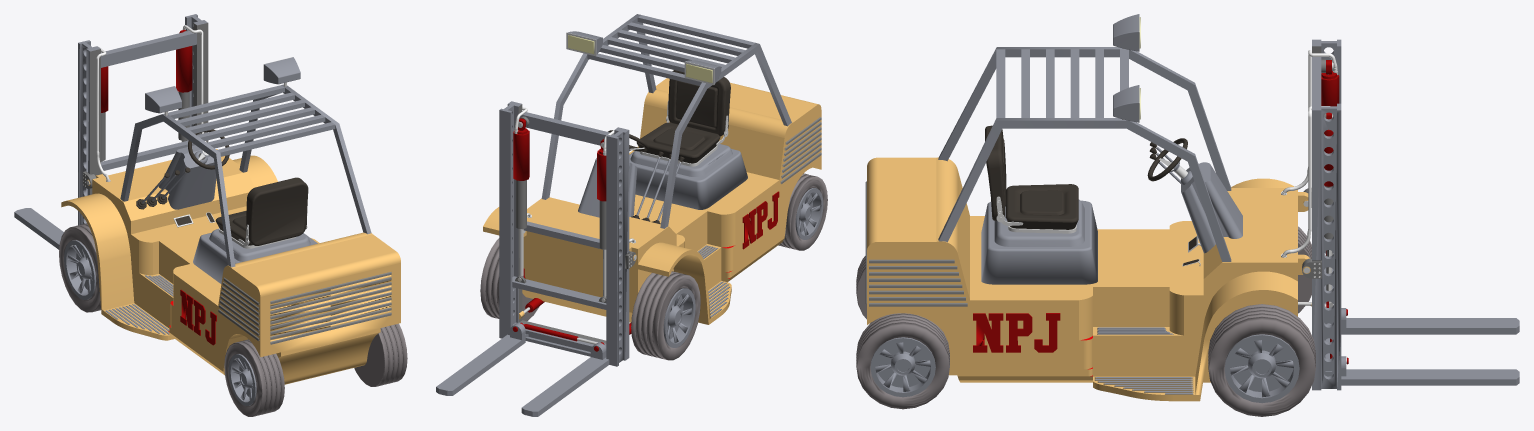
Rendered from forklift.fbx.
3 views of the same model, side by side, from view 1: azimuth 30°, elevation 25°; view 2: azimuth 150°, elevation 25°; view 3: azimuth 270°, elevation 25° (orthographic). The views are drawn at different scales.
Parts seen in each view (by area): view 1: Forklift, Overhead Guard, Lift Cylinder, RearLeft, Collapsable, FrontLeft, Vehicle Controls, Seat, RearRight, Front, Forks, Base (+1 smaller); view 2: Forklift, Lift Cylinder, Overhead Guard, Forks, FrontLeft, Seat, Front, Collapsable, RearLeft, Base, FrontRight, Vehicle Controls; view 3: Forklift, Overhead Guard, Lift Cylinder, FrontRight, RearRight, Seat, Forks, Base, Vehicle Controls, Collapsable, Front, FrontLeft.
Part boxes in pixels (<box>): Forklift: <box>61,149,400,384</box>; Overhead Guard: <box>120,57,371,267</box>; Lift Cylinder: <box>78,14,208,225</box>; RearLeft: <box>224,339,284,416</box>; Collapsable: <box>245,177,308,245</box>; FrontLeft: <box>59,223,100,312</box>; Vehicle Controls: <box>159,145,216,209</box>; Seat: <box>193,229,317,283</box>; RearRight: <box>354,323,407,386</box>; Front: <box>101,29,192,174</box>; Forks: <box>14,208,63,249</box>; Base: <box>215,210,296,248</box>; Forklift: <box>483,78,821,324</box>; Lift Cylinder: <box>499,101,636,366</box>; Overhead Guard: <box>541,14,791,228</box>; Forks: <box>436,276,609,416</box>; FrontLeft: <box>631,271,700,360</box>; Seat: <box>629,144,747,209</box>; Front: <box>513,118,606,302</box>; Collapsable: <box>666,70,730,136</box>; RearLeft: <box>778,173,827,250</box>; Base: <box>636,117,727,166</box>; FrontRight: <box>480,238,539,320</box>; Vehicle Controls: <box>578,150,637,217</box>; Forklift: <box>865,157,1297,401</box>; Overhead Guard: <box>938,14,1231,261</box>; Lift Cylinder: <box>1281,39,1348,390</box>; FrontRight: <box>1208,304,1315,416</box>; RearRight: <box>856,313,949,409</box>; Seat: <box>981,199,1097,284</box>; Forks: <box>1324,253,1519,385</box>; Base: <box>999,184,1078,233</box>; Vehicle Controls: <box>1174,162,1242,253</box>; Collapsable: <box>985,125,1006,222</box>; Front: <box>1321,60,1339,307</box>; FrontLeft: <box>1298,226,1311,313</box>.
Size of the model in its own units: 106 by 136 by 266.
